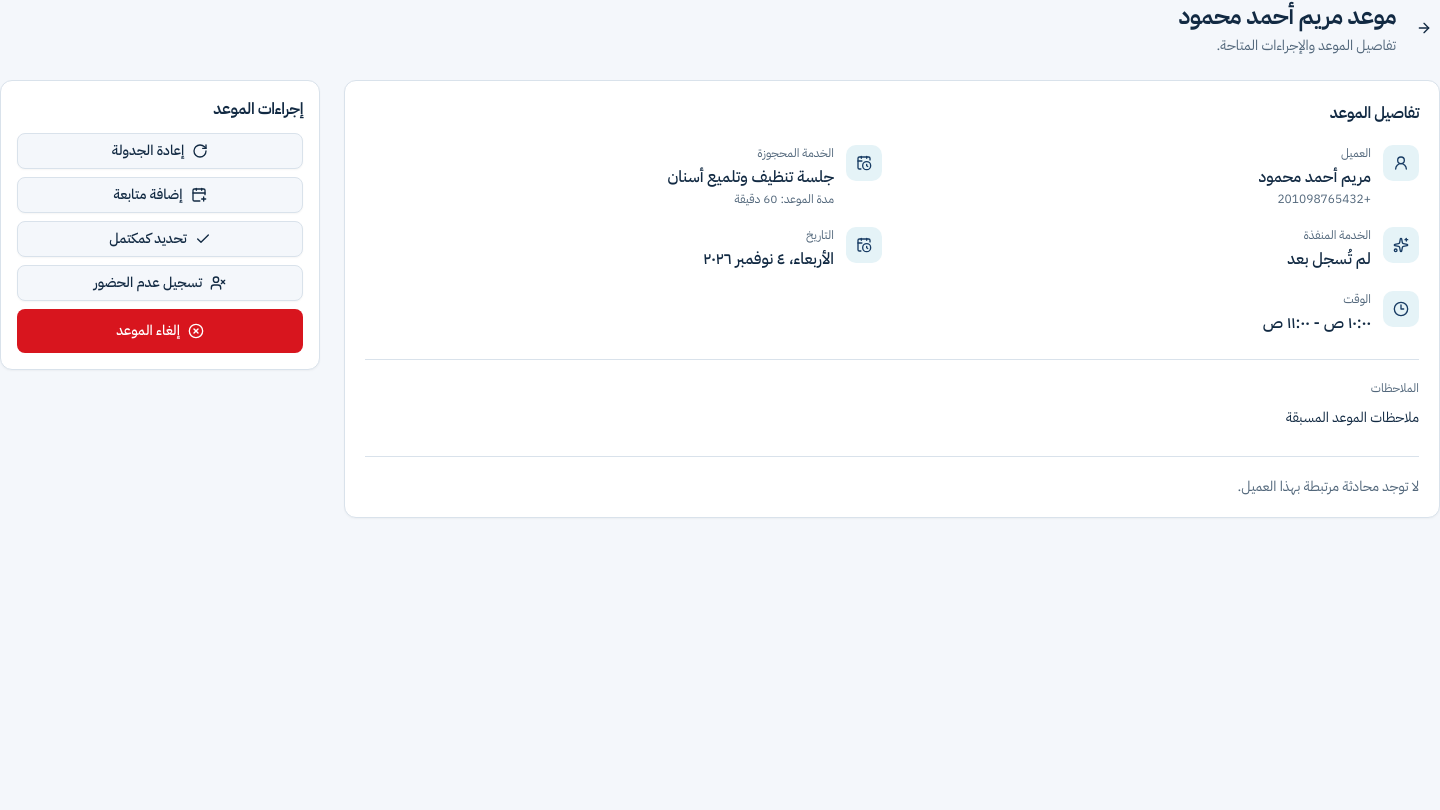
AppointmentDetail cancel confirmation integration › clicking 'إلغاء الموعد' opens dialog without mutating; explicit confirm cancels on server
The image size is (1440, 810).
// Clicking opener MUST NOT invoke updateAppointmentStatus
Step 1. Click the button with test id "appointment-cancel-opener-btn" → (160, 331), box [17,309,303,353]
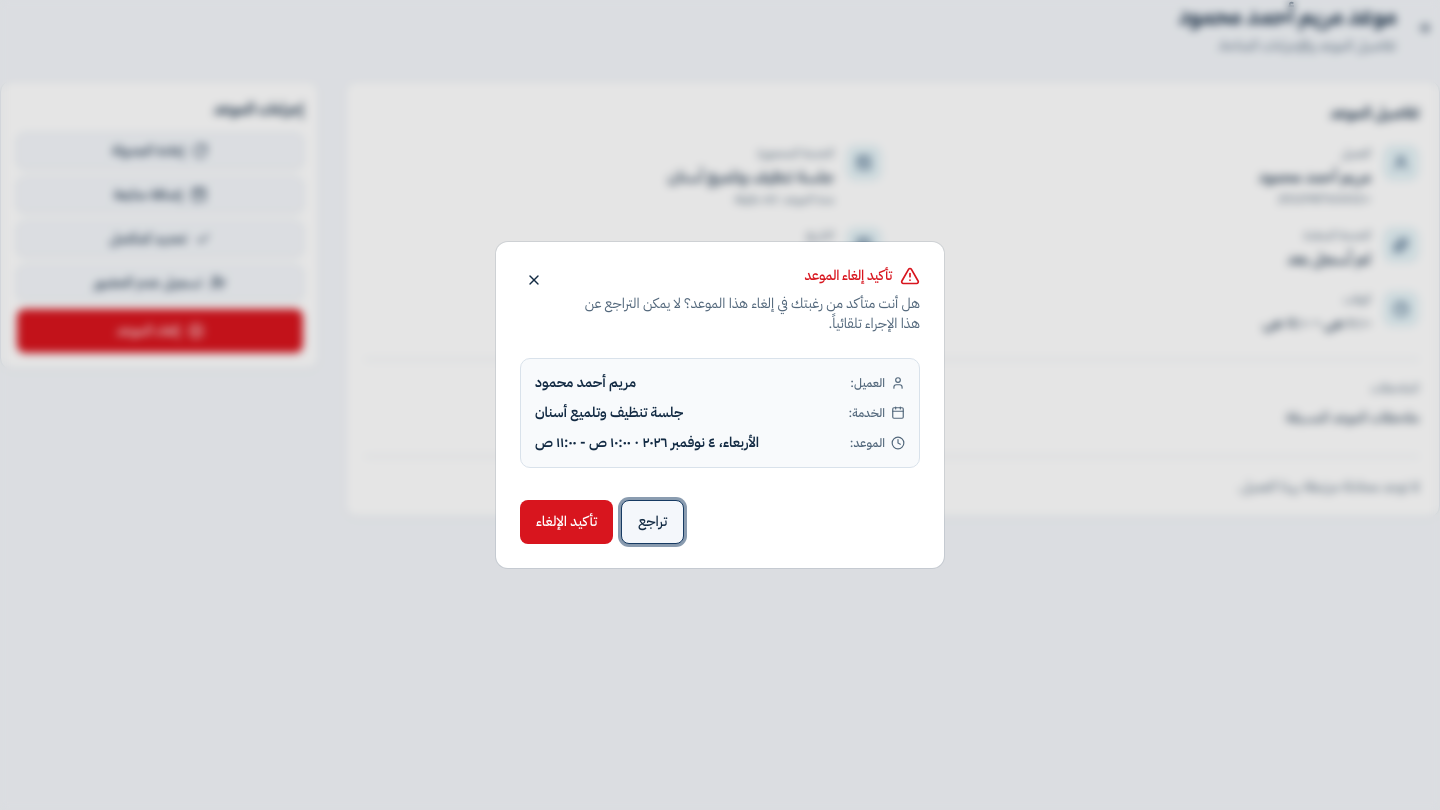
expect the dialog is shown: met, box [496,242,944,568]
expect the button with test id "cancel-dialog-confirm-btn" is shown: met
// Click confirm in the dialog
Step 2. Click the button with test id "cancel-dialog-confirm-btn" → (567, 522), box [520,500,613,544]
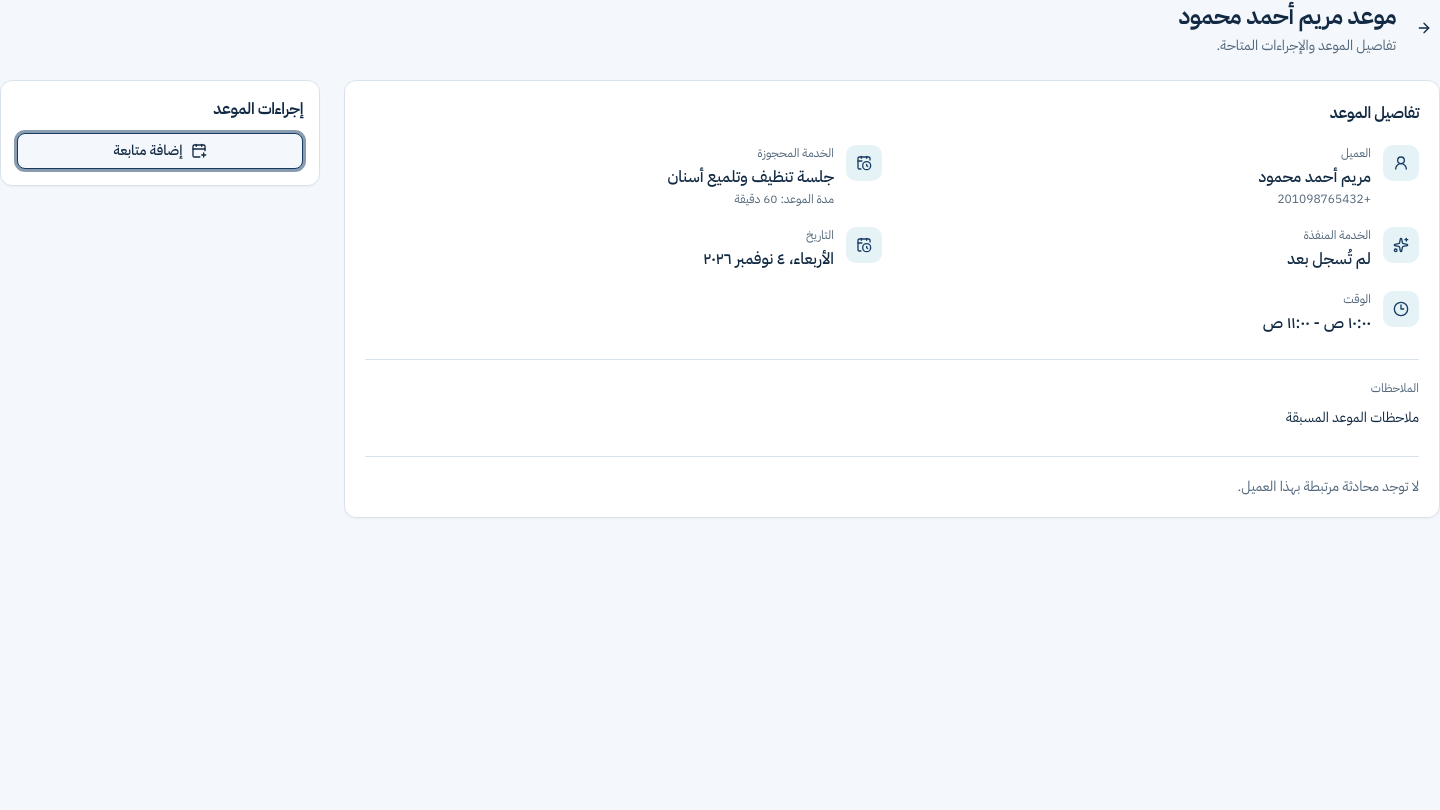
expect the button with test id "appointment-cancel-opener-btn" is gone: met
